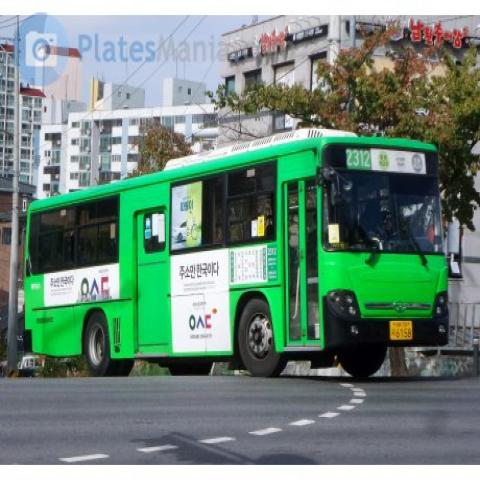LP: (385, 314, 417, 348)
